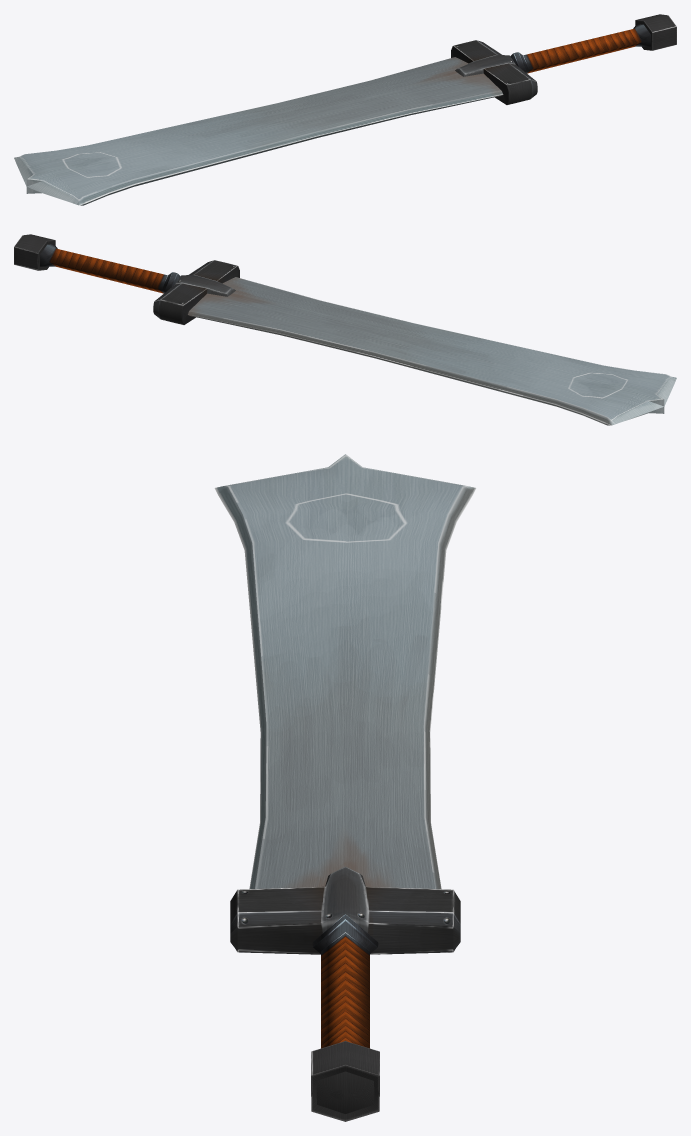
File: Spade.FBX
3 views of the same model, one above another, from view 1: azimuth 30°, elevation 25°; view 2: azimuth 150°, elevation 25°; view 3: azimuth 270°, elevation 25° (orthographic). The views are drawn at different scales.
Visible parts, largest first — view 1: Spade; view 2: Spade; view 3: Spade.
Part boxes in pixels (left/top/right/bottom): Spade: left=14, top=14, right=676, bottom=205; Spade: left=14, top=234, right=676, bottom=425; Spade: left=214, top=454, right=476, bottom=1121.
Bounding box in the file's own units: 157 × 6.66 × 27.64.
